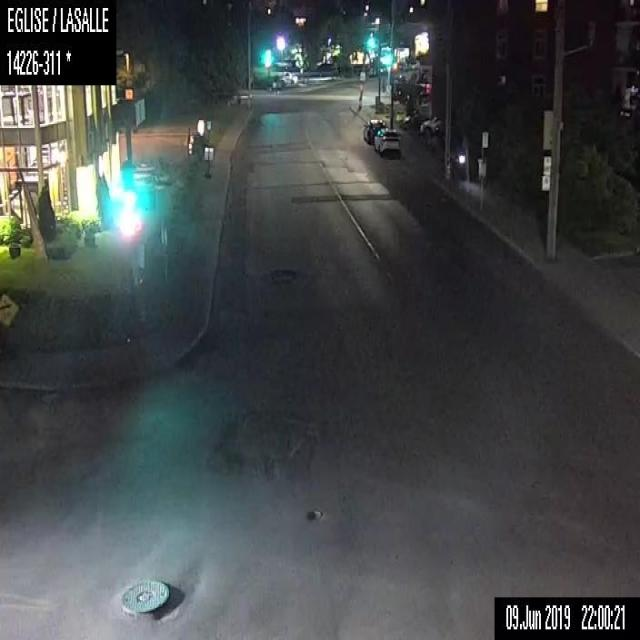vehicle: (373, 126, 403, 158), (362, 118, 384, 146), (419, 116, 442, 136)
